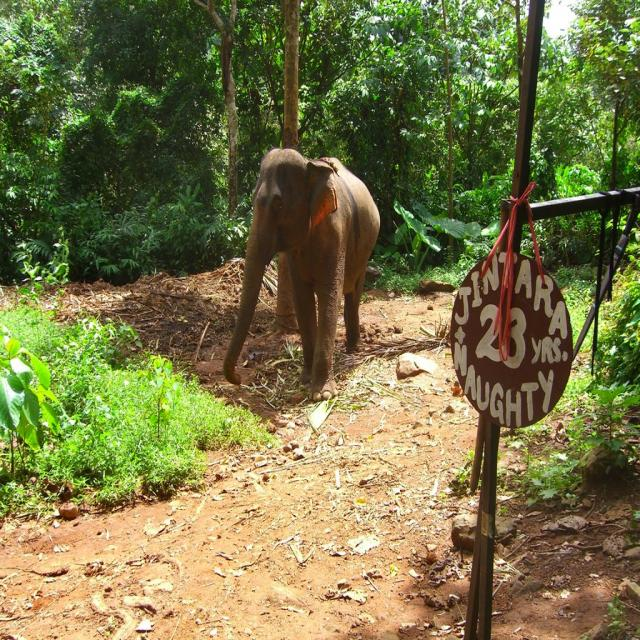elephant: (225, 148, 388, 397)
